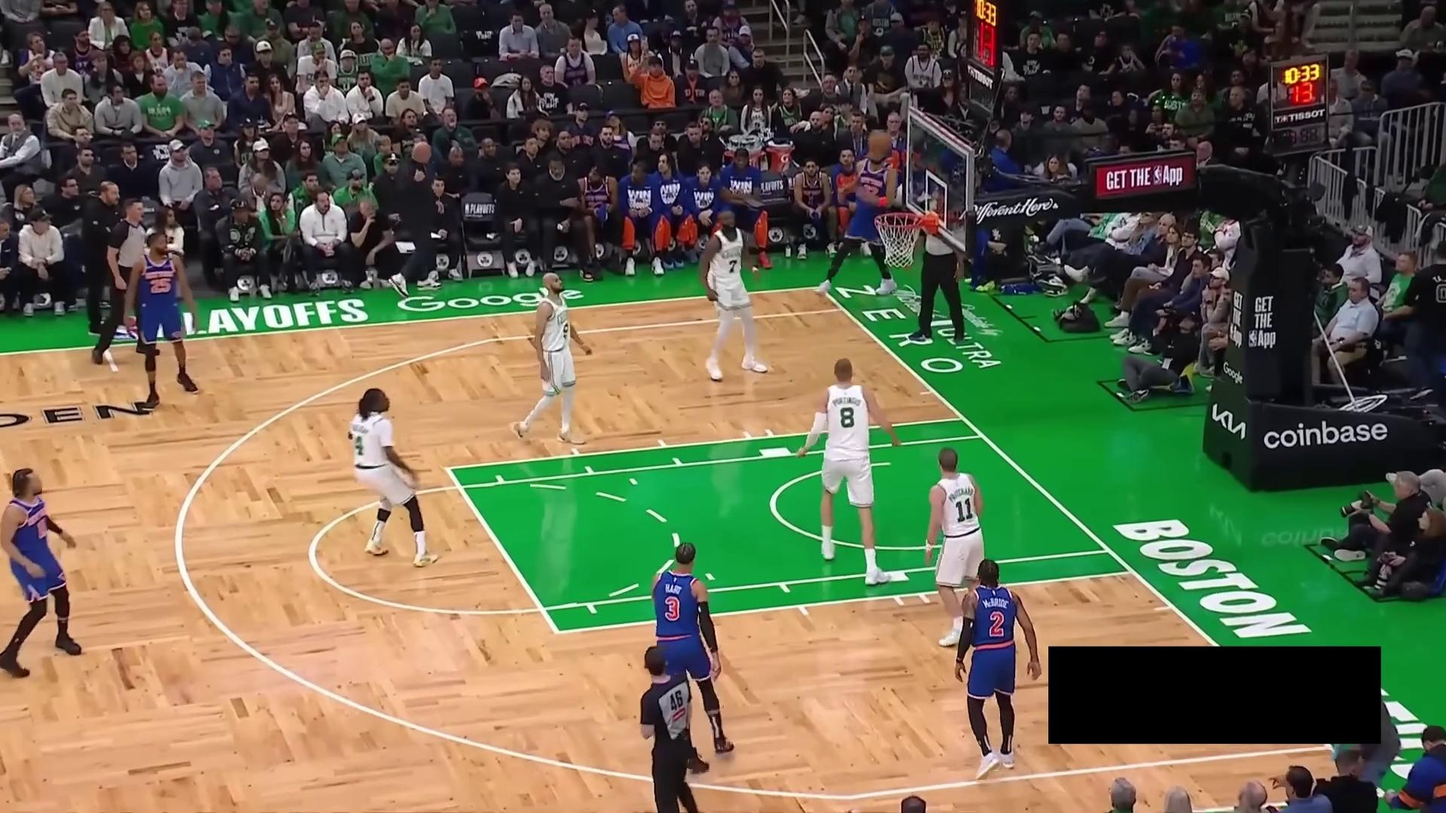ball: (867, 131, 891, 158)
number: (952, 497, 973, 522), (663, 596, 681, 621), (988, 611, 1006, 635), (839, 405, 857, 429), (150, 277, 171, 294), (353, 436, 366, 458), (728, 259, 738, 275)
player: (796, 357, 901, 587), (649, 541, 736, 773), (953, 558, 1042, 781), (0, 467, 84, 678), (346, 388, 438, 569), (817, 134, 904, 304), (124, 227, 204, 409), (513, 270, 594, 446), (928, 448, 988, 648), (701, 207, 770, 380)
referee: (90, 196, 159, 365), (638, 643, 702, 813), (910, 221, 968, 344)
rim: (872, 210, 924, 229)
